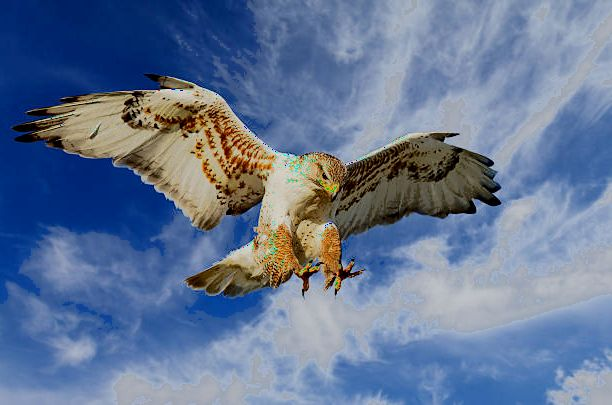Bird: (11, 72, 507, 300)
